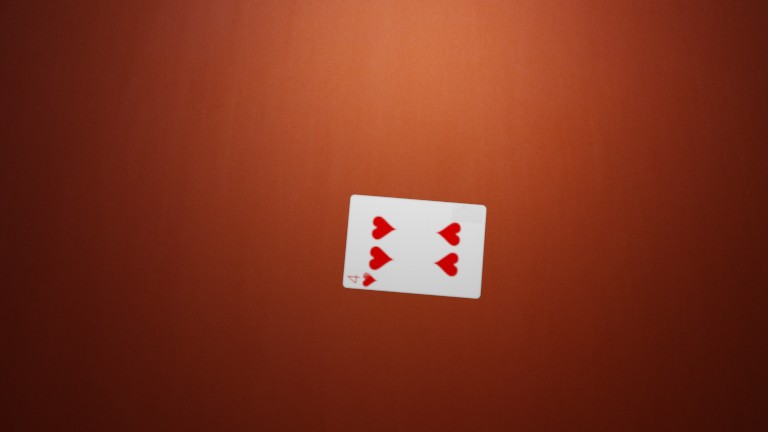4_of_hearts: (138, 108, 151, 116), (180, 82, 193, 89)
